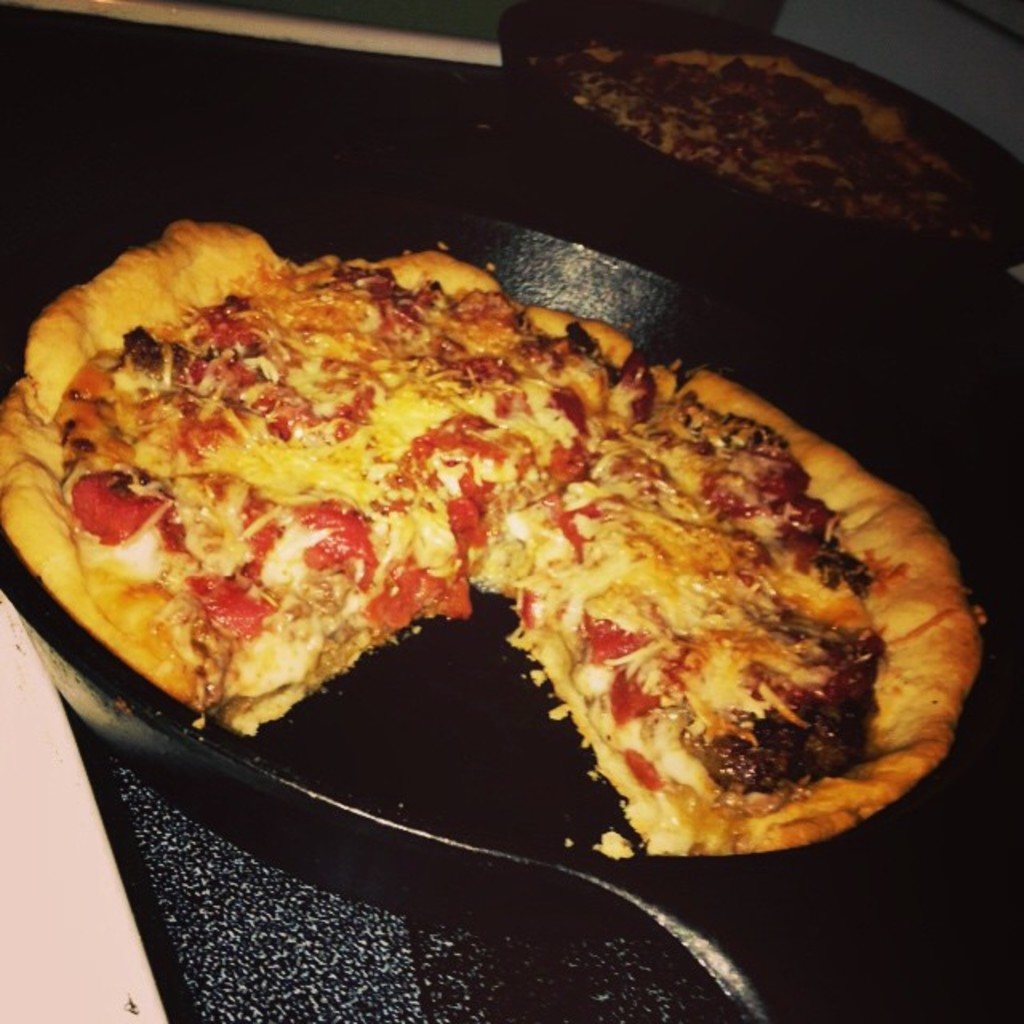Pizza: (7, 227, 972, 870)
